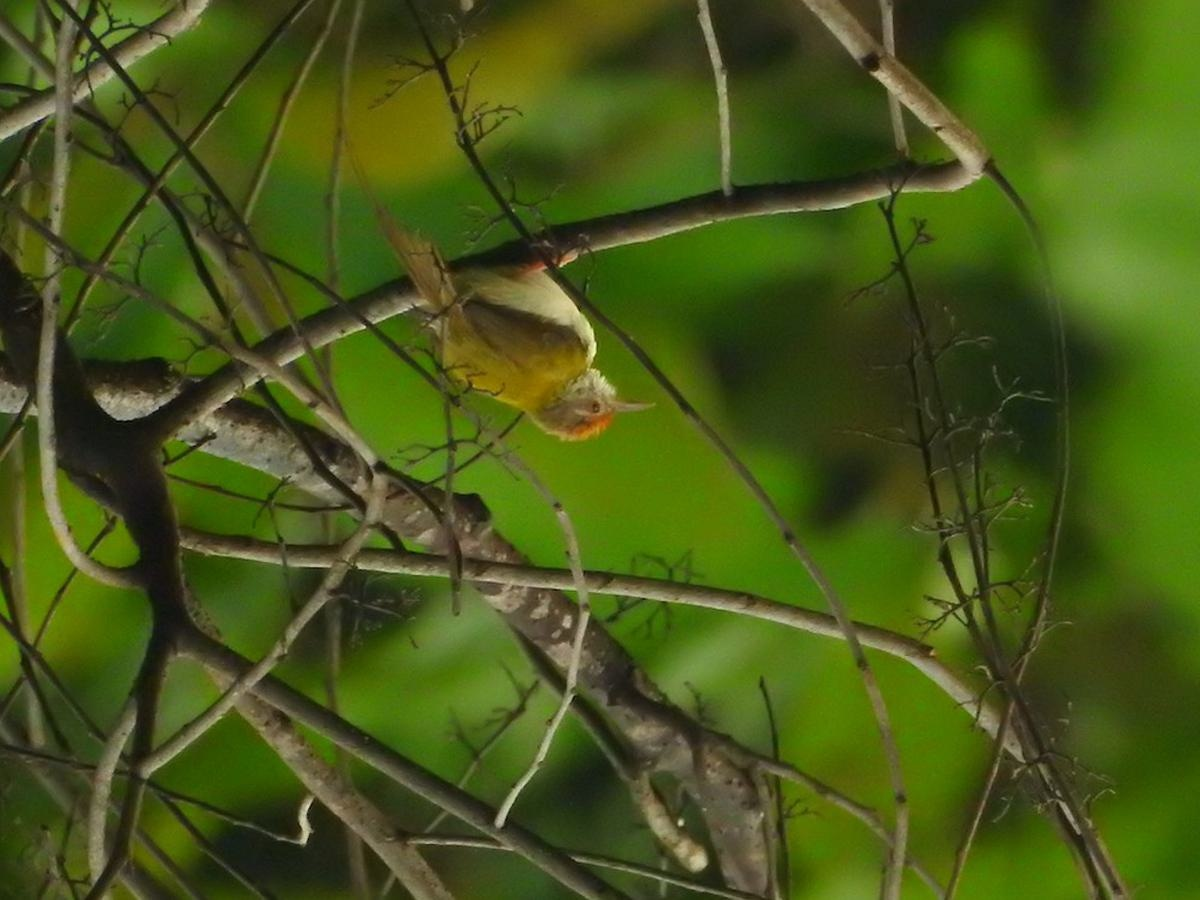tailorbird: (379, 217, 666, 461)
